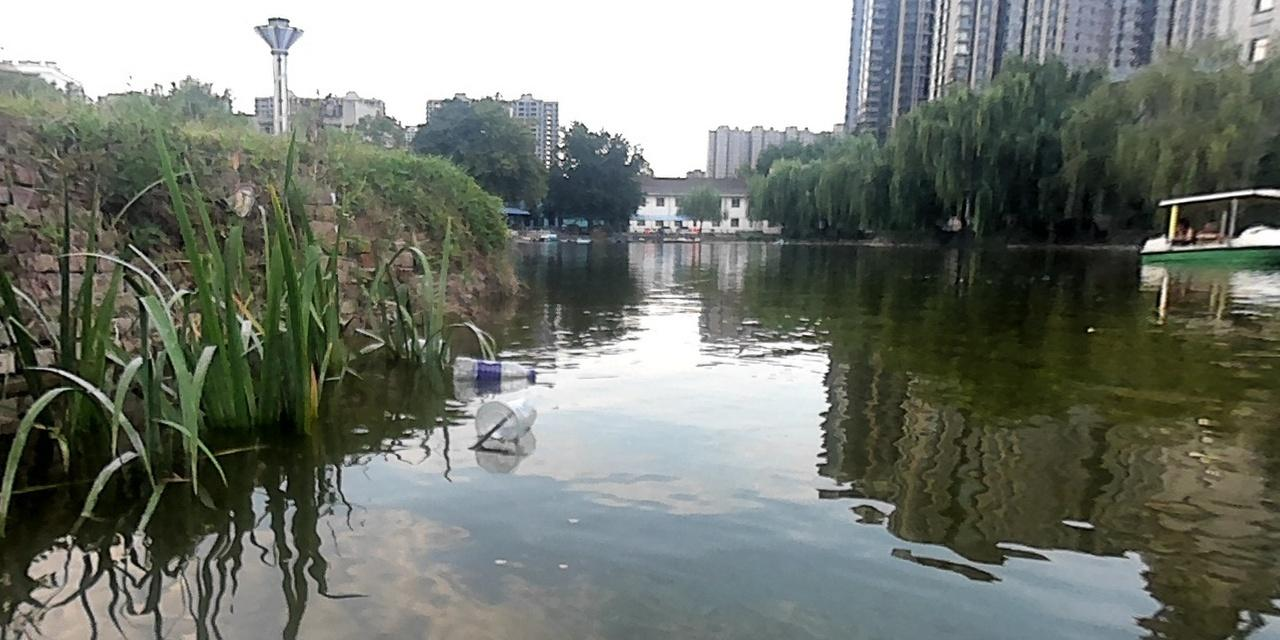bottle: (469, 391, 539, 447), (450, 353, 538, 382)
